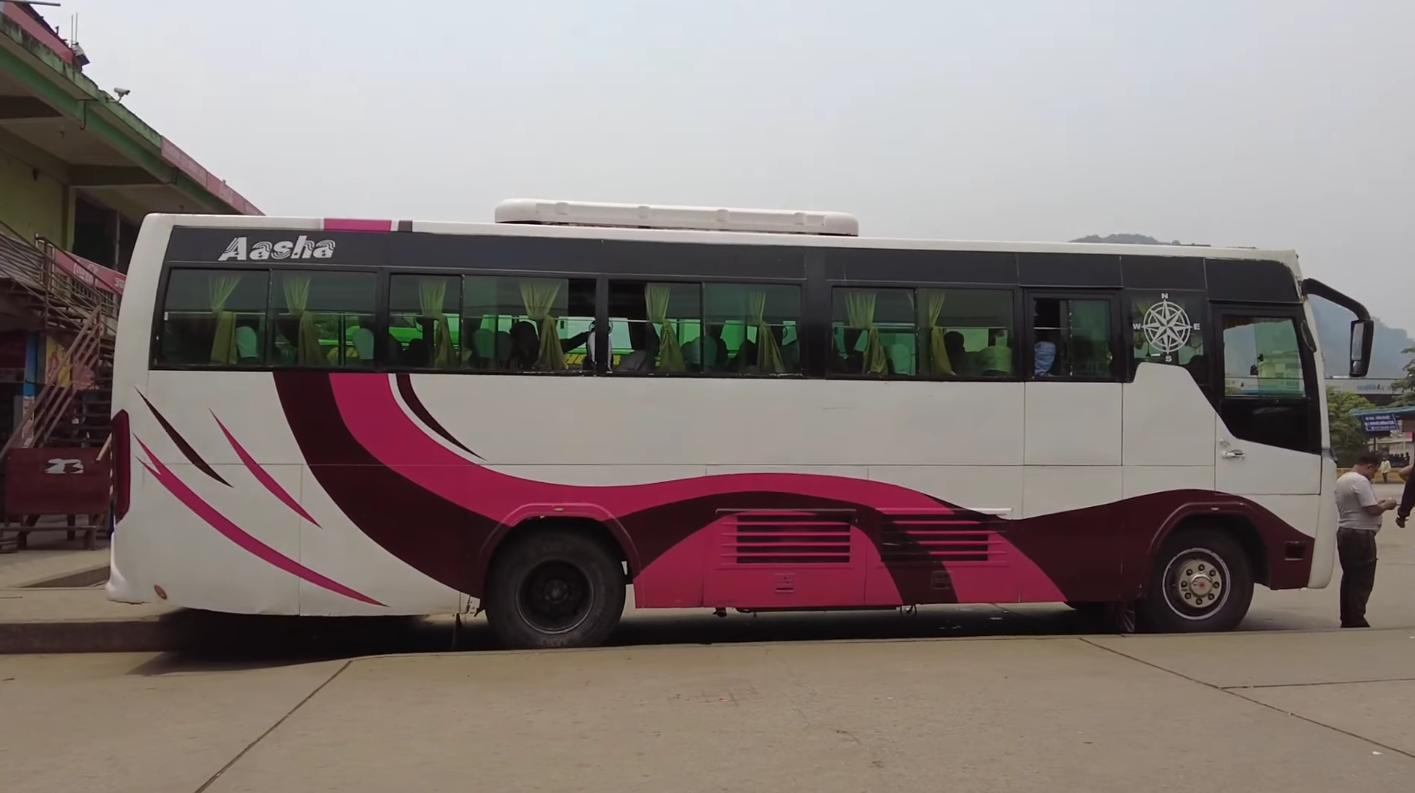bus: (90, 182, 1366, 654)
